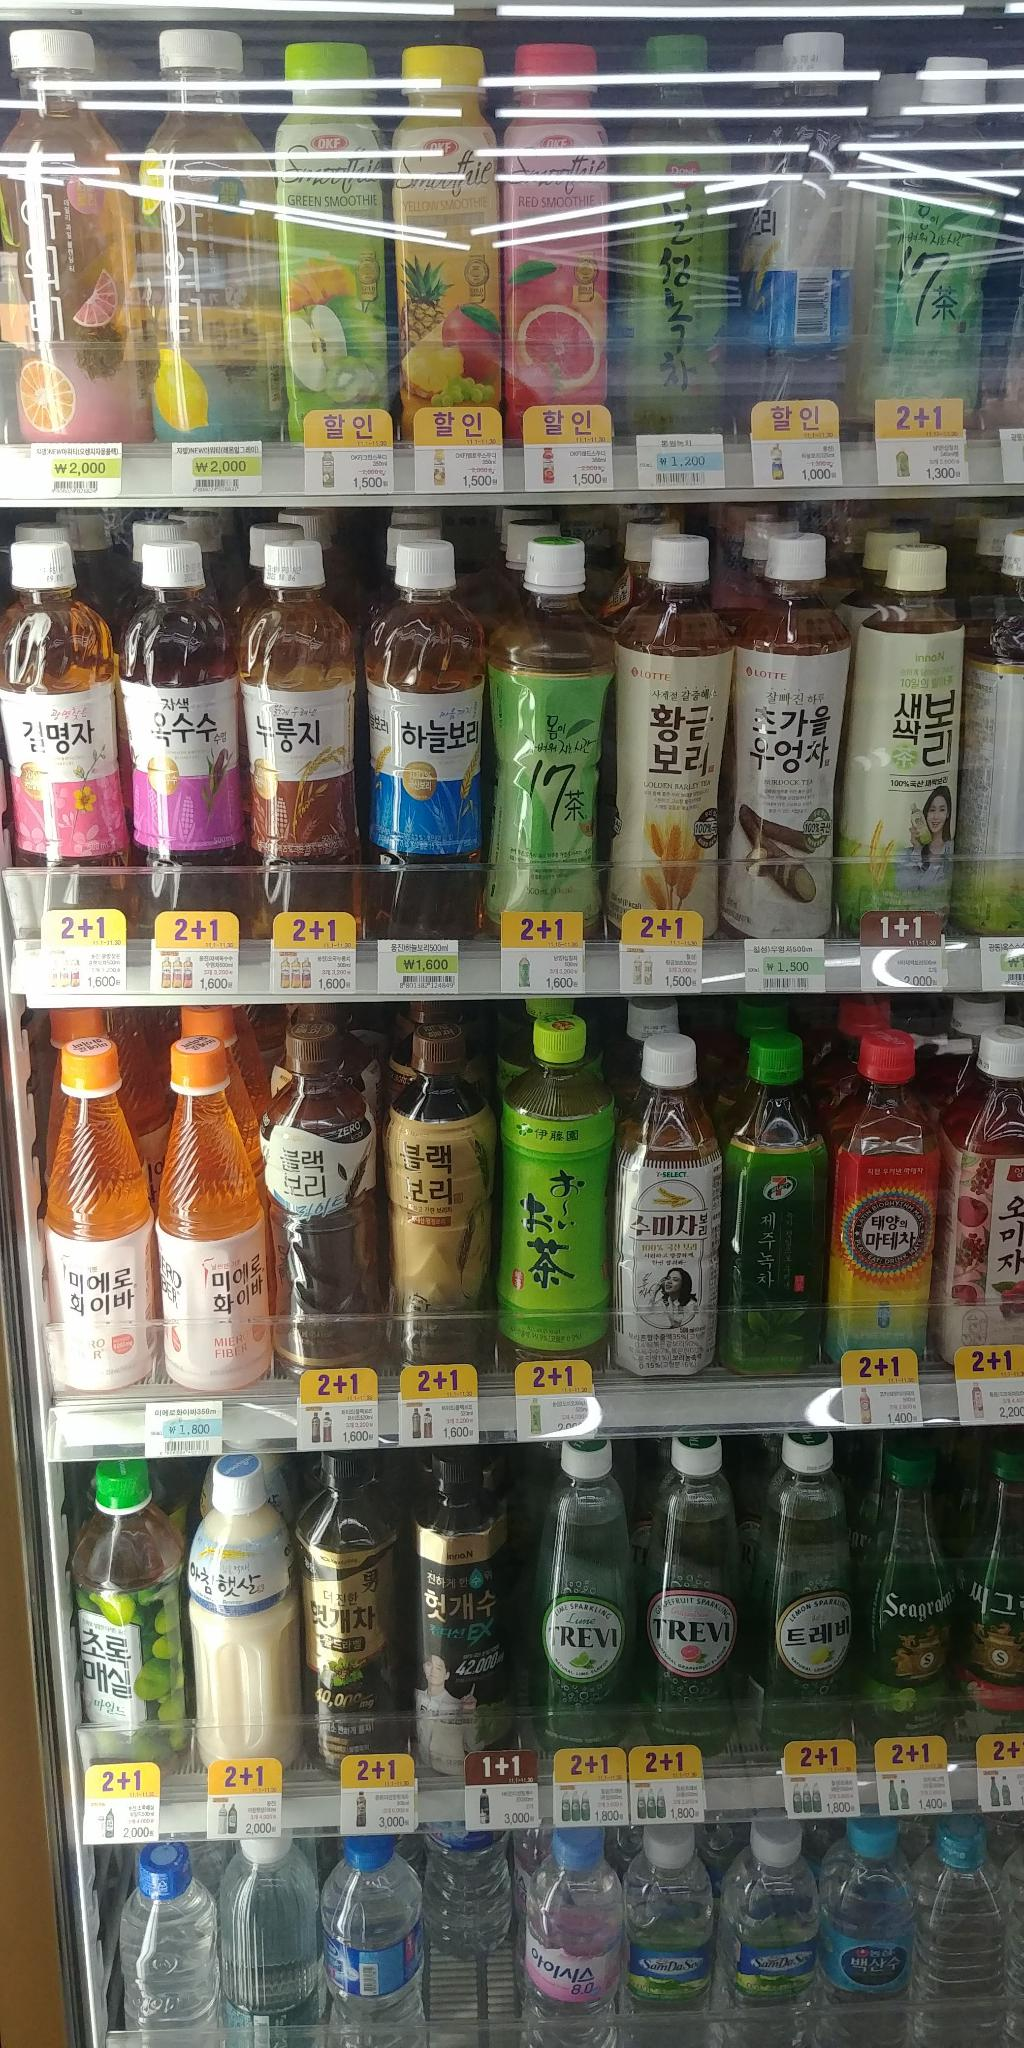haneulbori: (360, 521, 490, 947)
